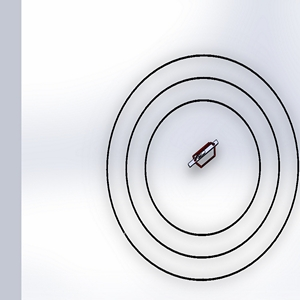circle: (100, 46, 300, 285)
submarine: (183, 133, 226, 179)
